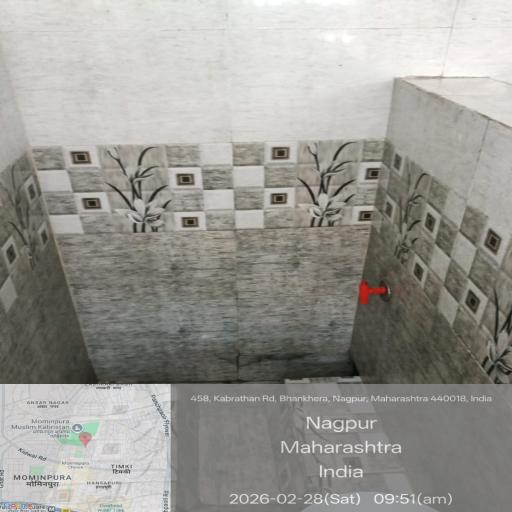clean_floor: (30, 72, 454, 426)
partial_dirty_floor: (51, 341, 432, 512)
